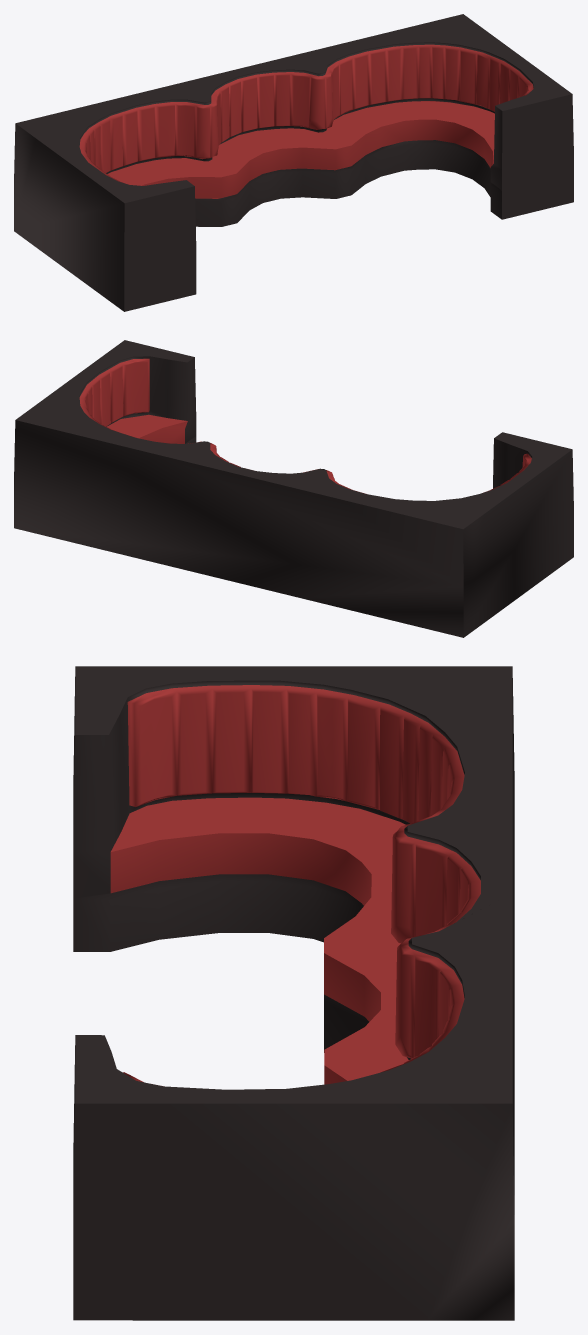
The picture shows the model from 3 angles, top to bottom: view 1: azimuth 30°, elevation 25°; view 2: azimuth 150°, elevation 25°; view 3: azimuth 270°, elevation 25°; orthographic projection. The views are drawn at different scales.
Visible parts, largest first — view 1: BarCouch.008; view 2: BarCouch.008; view 3: BarCouch.008.
Boxes of the visible parts, x1,y1,x2,y2 form: BarCouch.008: (14,14,573,311); BarCouch.008: (14,340,573,637); BarCouch.008: (73,666,514,1320).
Size of what is drawn, in the model's own units: 4.75 by 1.09 by 2.02.
Materials: 1 (1 with a texture image).
